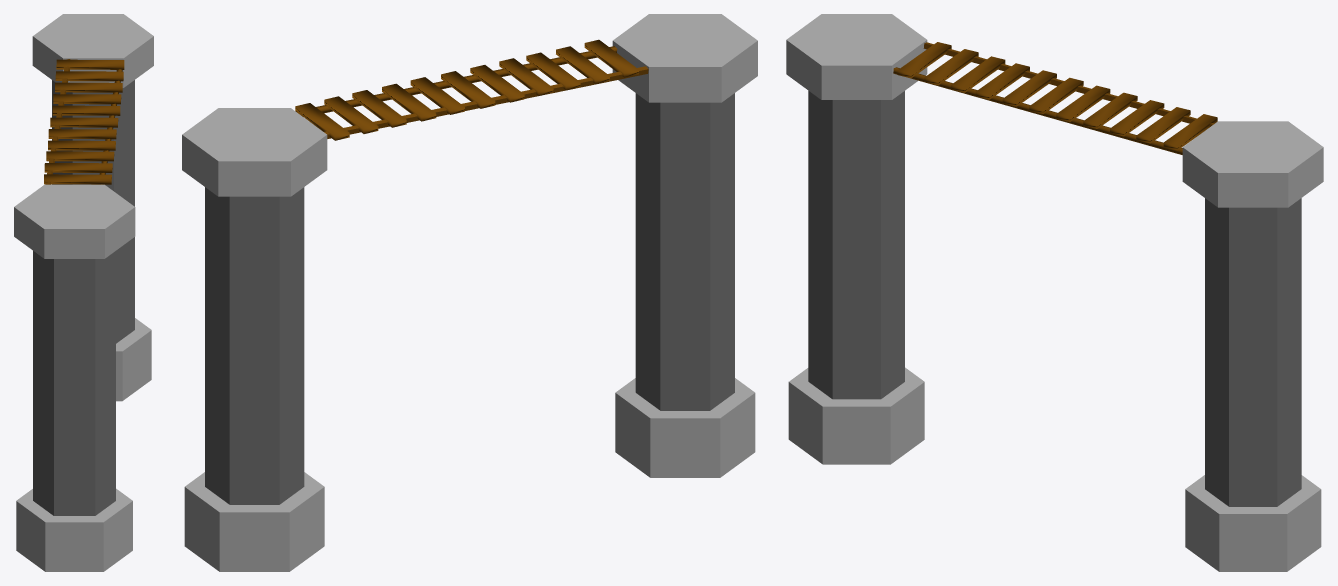
Rendered from Pillar And Walkway.fbx.
3 views of the same model, side by side, from view 1: azimuth 30°, elevation 25°; view 2: azimuth 150°, elevation 25°; view 3: azimuth 270°, elevation 25° (orthographic). The views are drawn at different scales.
Visible parts, largest first — view 1: Cylinder, Cylinder.001, Cube.001; view 2: Cylinder.001, Cylinder, Cube.001; view 3: Cylinder.001, Cylinder, Cube.001.
Boxes of the visible parts, bbox=[...] form: Cylinder: bbox=[14, 184, 135, 571]; Cylinder.001: bbox=[32, 14, 153, 401]; Cube.001: bbox=[44, 59, 124, 184]; Cylinder.001: bbox=[182, 108, 327, 571]; Cylinder: bbox=[612, 14, 757, 477]; Cube.001: bbox=[295, 39, 648, 140]; Cylinder.001: bbox=[1182, 121, 1323, 571]; Cylinder: bbox=[786, 14, 927, 464]; Cube.001: bbox=[893, 42, 1217, 154].
Size of the model in its own units: 553 by 650 by 790.
